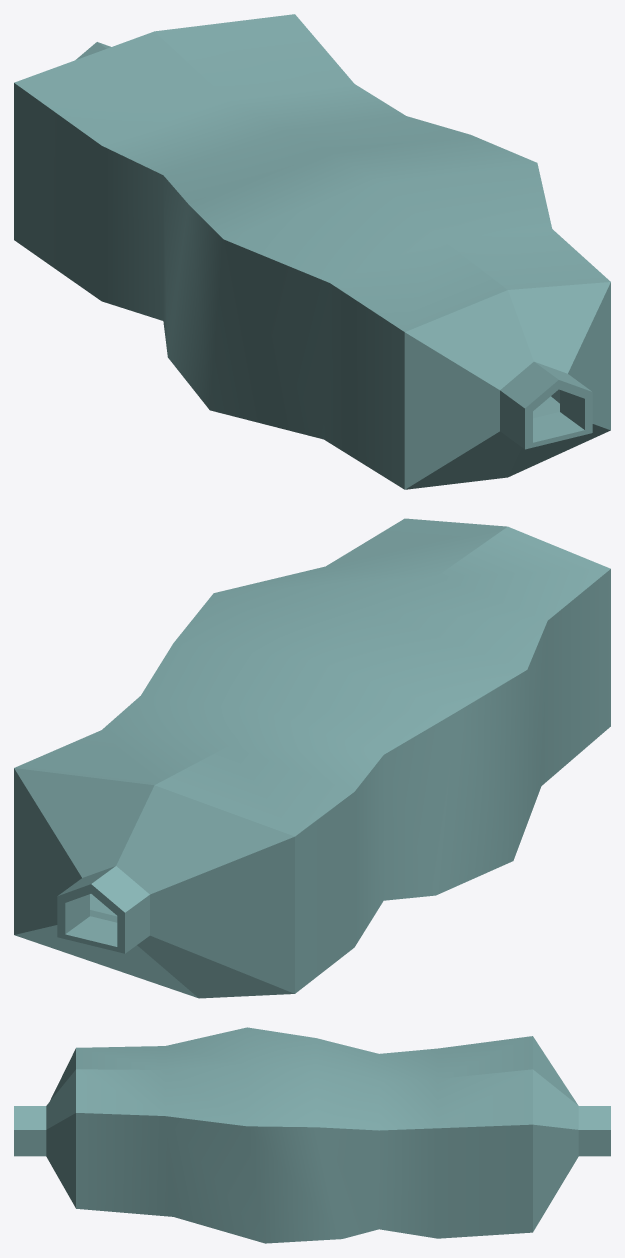
The model's file is SM_Cave_Block.fbx.
3 renders of one model, top to bottom at view 1: azimuth 30°, elevation 25°; view 2: azimuth 150°, elevation 25°; view 3: azimuth 270°, elevation 25°, orthographic. The views are drawn at different scales.
Parts seen in each view (by area): view 1: pCylinder13; view 2: pCylinder13; view 3: pCylinder13.
Boxes of the visible parts, x1,y1,x2,y2 form: pCylinder13: (14,14,610,489); pCylinder13: (14,518,610,998); pCylinder13: (14,1027,610,1243).
Bounding box in the file's own units: 2712 × 1789 × 6916.
